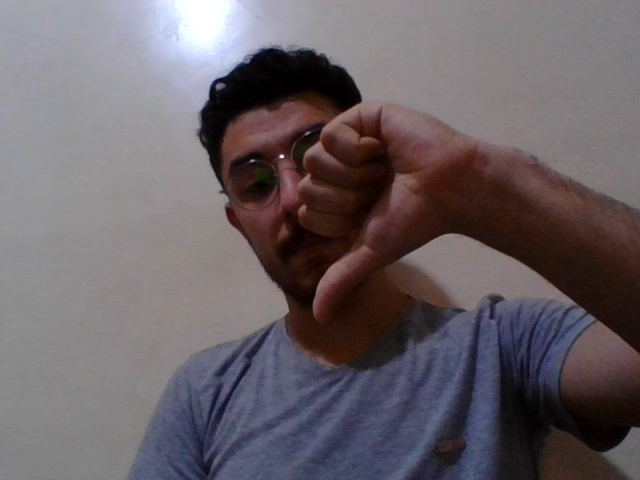No: (282, 104, 556, 328)
